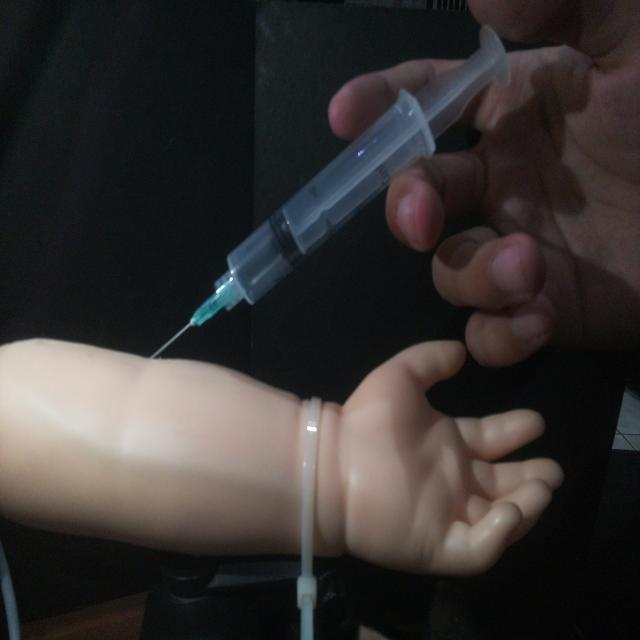25deg: (144, 22, 513, 361)
